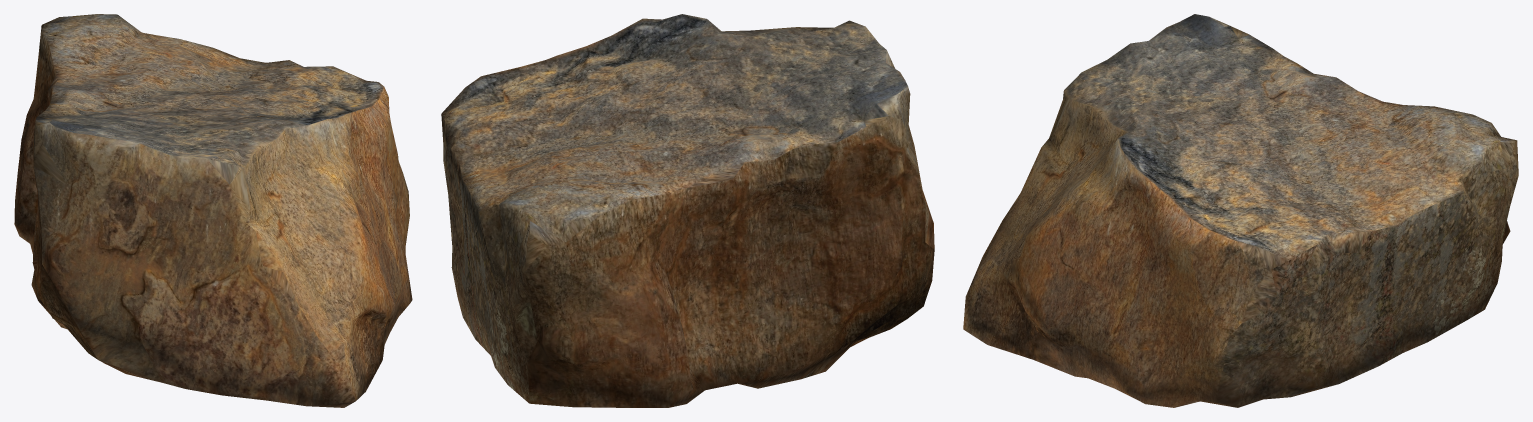
File: rock_b.glb
3 views of the same model, side by side, from view 1: azimuth 30°, elevation 25°; view 2: azimuth 150°, elevation 25°; view 3: azimuth 270°, elevation 25° (orthographic). The views are drawn at different scales.
Parts seen in each view (by area): view 1: rock_b; view 2: rock_b; view 3: rock_b.
Boxes of the visible parts, <box> form: rock_b: <box>14,14,412,407</box>; rock_b: <box>441,14,934,407</box>; rock_b: <box>963,14,1518,407</box>.
Size of the model in its own units: 0.7817 by 0.4803 by 1.
Materials: 1 (1 with a texture image).
